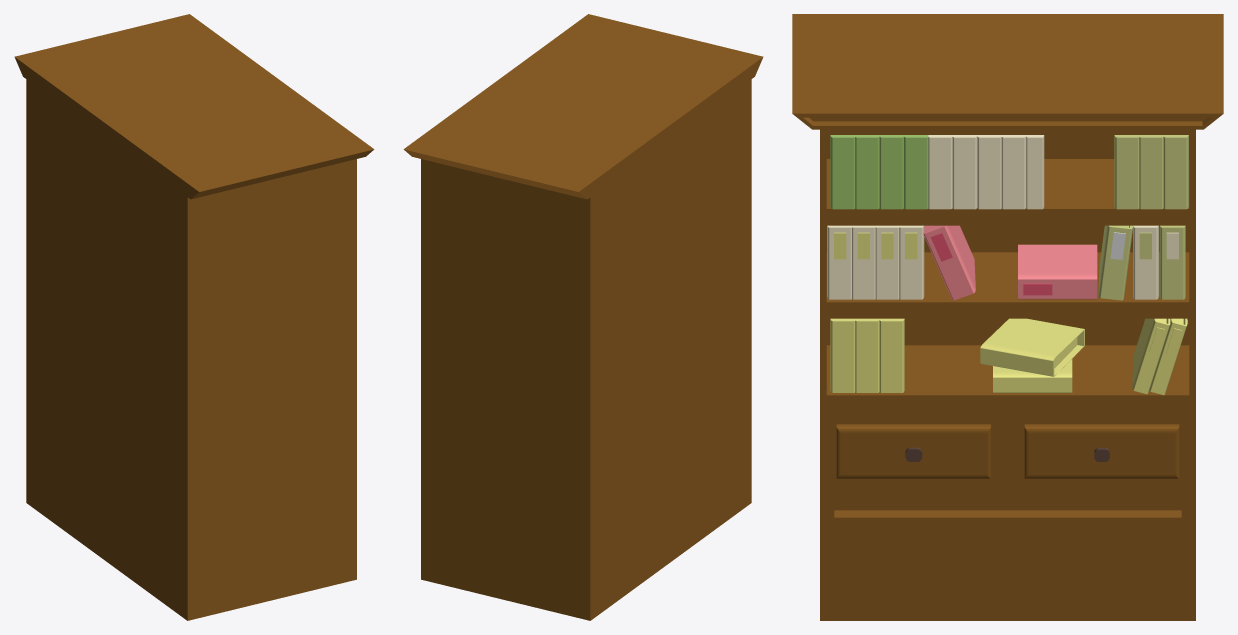
The model's file is Book.fbx.
The picture shows the model from 3 angles, left to right: view 1: azimuth 30°, elevation 25°; view 2: azimuth 150°, elevation 25°; view 3: azimuth 270°, elevation 25°; orthographic projection. The views are drawn at different scales.
Parts seen in each view (by area): view 1: Book; view 2: Book; view 3: Book.
Part boxes in pixels (box(x1,y1,x2,y2)): Book: box(14, 14, 374, 620); Book: box(403, 14, 763, 620); Book: box(792, 14, 1223, 620).
Size of the model in its own units: 6416 by 14963 by 11463.
